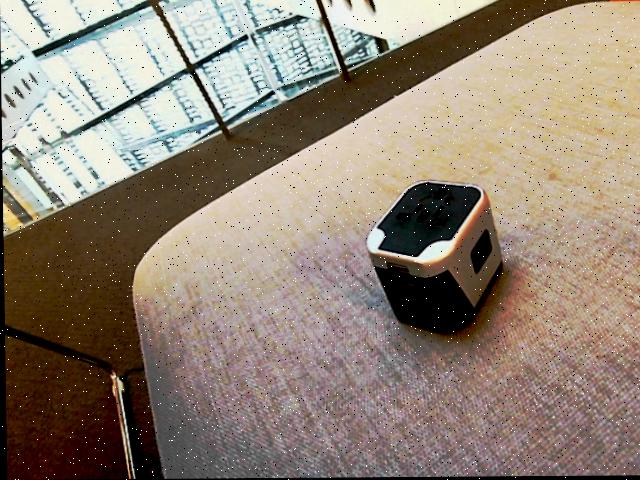adapter: (364, 179, 502, 334)
